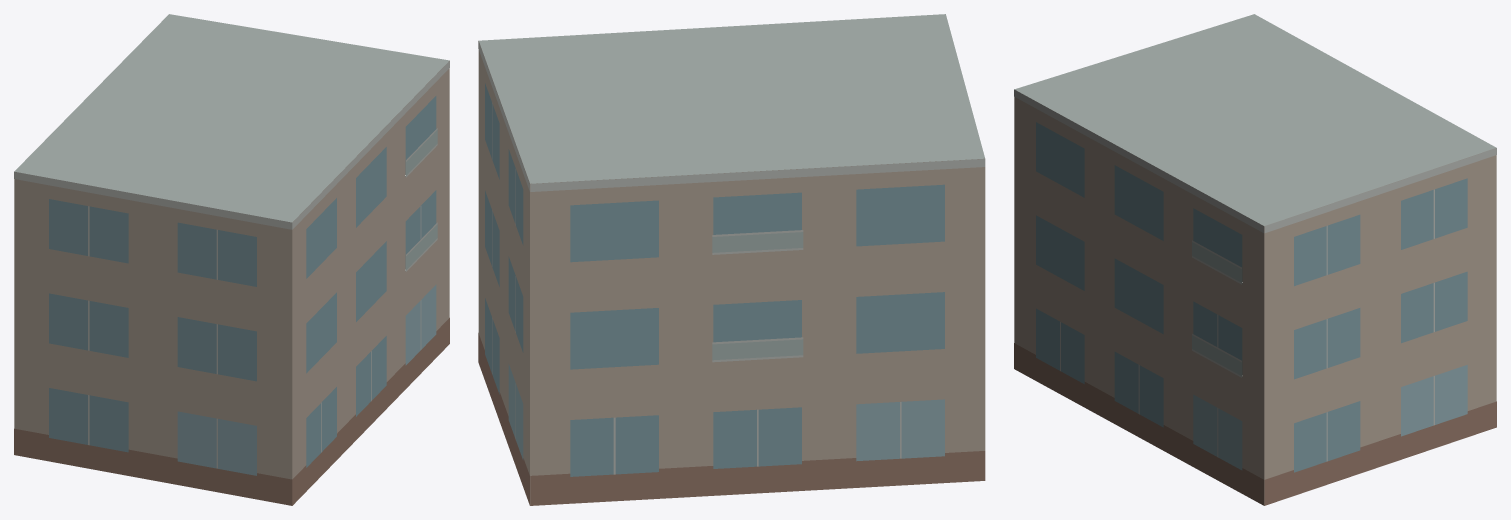
Rendered from survey-upis-32680061.glb.
The picture shows the model from 3 angles, left to right: view 1: azimuth 30°, elevation 25°; view 2: azimuth 150°, elevation 25°; view 3: azimuth 270°, elevation 25°; orthographic projection. The views are drawn at different scales.
Parts seen in each view (by area): view 1: survey-upis-32680061.tmp; view 2: survey-upis-32680061.tmp; view 3: survey-upis-32680061.tmp.
Boxes of the visible parts, x1,y1,x2,y2 form: survey-upis-32680061.tmp: (14,14,449,505); survey-upis-32680061.tmp: (478,14,985,505); survey-upis-32680061.tmp: (1014,14,1496,505).
Bounding box in the file's own units: 15.39 × 9.45 × 14.79.
